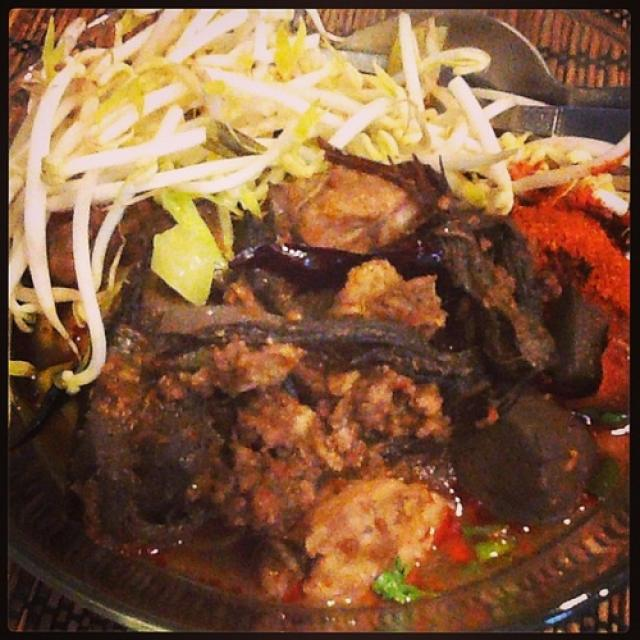面条主食: (23, 21, 613, 616)
